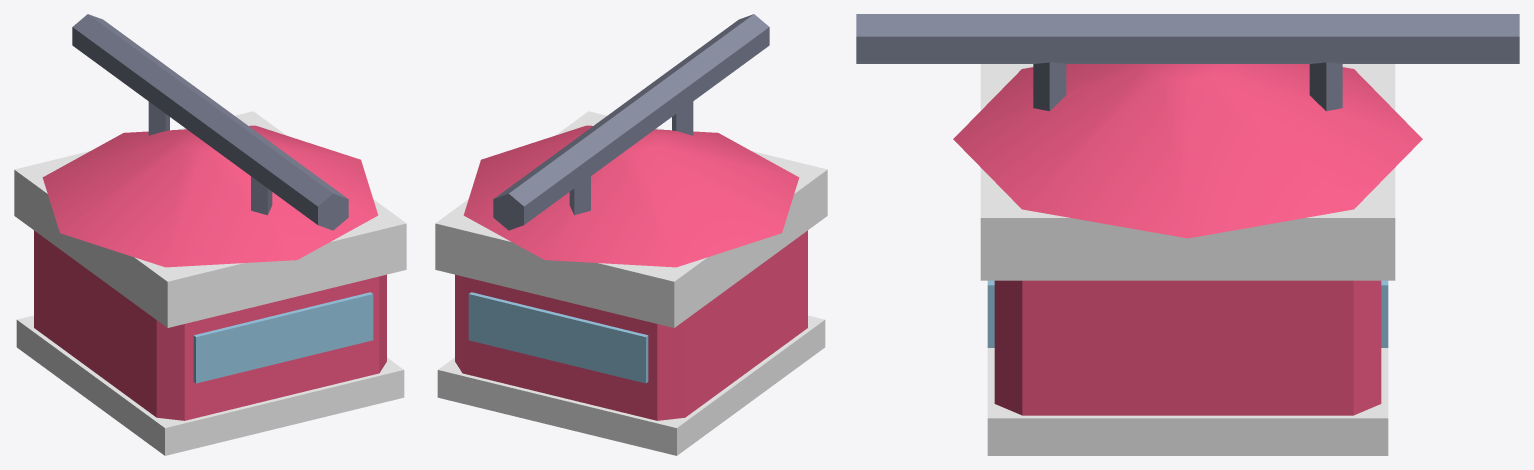
The model's file is ferris-wheel.gondola-0.glb.
3 renders of one model, left to right at view 1: azimuth 30°, elevation 25°; view 2: azimuth 150°, elevation 25°; view 3: azimuth 270°, elevation 25°, orthographic. The views are drawn at different scales.
Parts seen in each view (by area): view 1: model; view 2: model; view 3: model.
Boxes of the visible parts, x1,y1,x2,y2 form: model: (14, 14, 406, 455); model: (435, 14, 827, 455); model: (856, 14, 1519, 455).
Bounding box in the file's own units: 0.34 × 0.29 × 0.48.
1 material, 1 textured.
